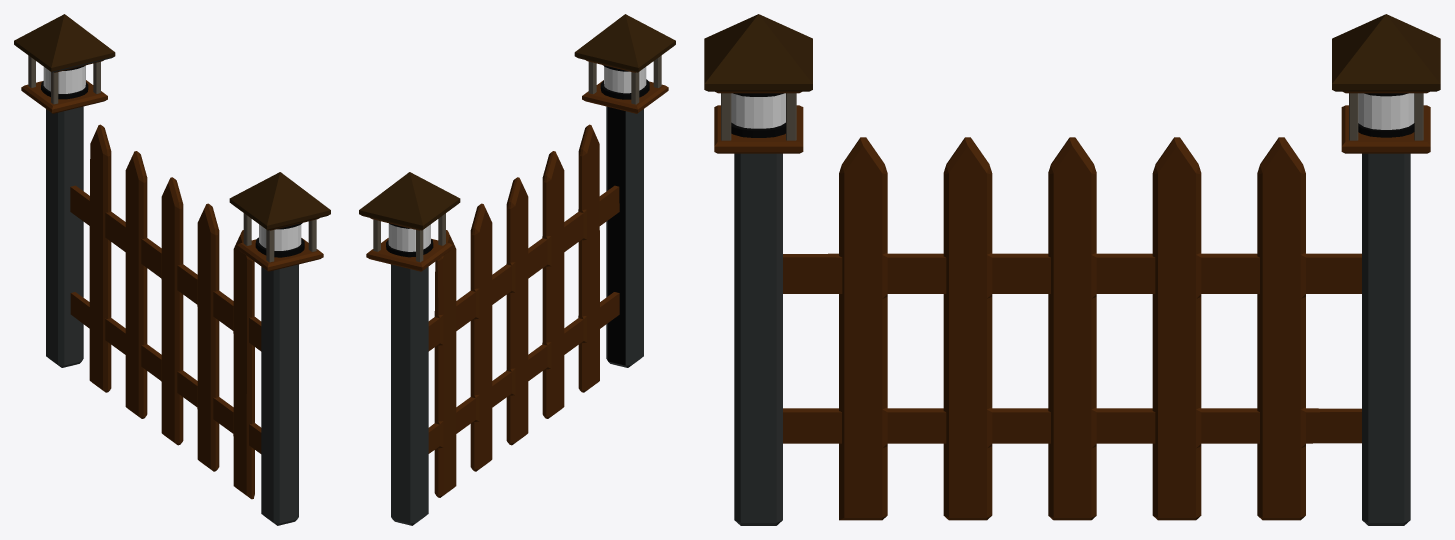
The model's file is PAGAR-BESI-KAYU_DENGANPEMISAH.fbx.
3 renders of one model, left to right at view 1: azimuth 30°, elevation 25°; view 2: azimuth 150°, elevation 25°; view 3: azimuth 270°, elevation 25°, orthographic. The views are drawn at different scales.
Visible parts, largest first — view 1: Cube; view 2: Cube; view 3: Cube.
Part boxes in pixels (<box>): Cube: <box>14,14,330,525</box>; Cube: <box>359,14,675,525</box>; Cube: <box>704,14,1440,525</box>.
Size of the model in its own units: 443 by 2297 by 3030.
